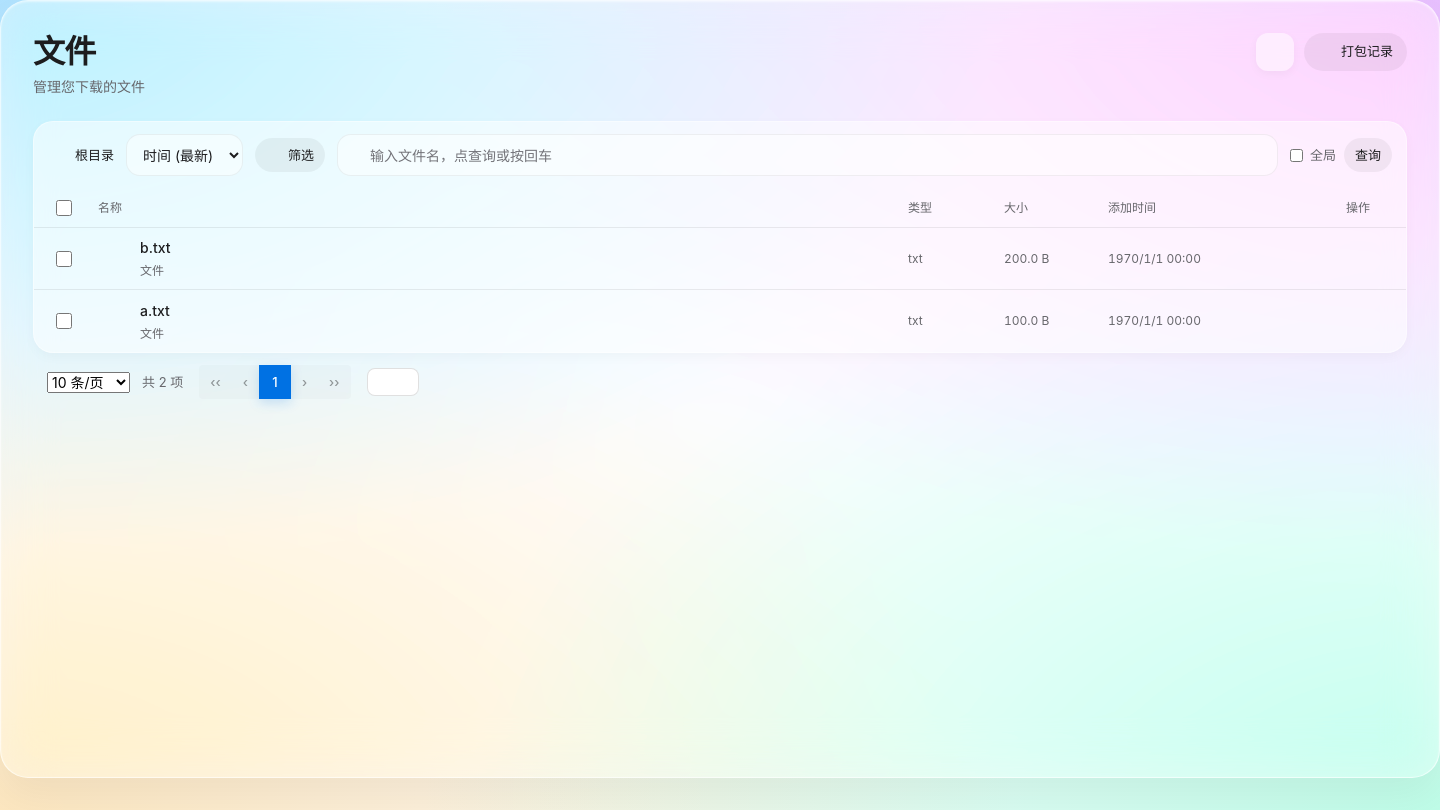
FilesPage（V1 文件页） › 选中后出现批量操作；批量删除确认后刷新
Expected: the text "a.txt" is shown, [140,302,170,319]
Step 1. Click the checkbox named "选择文件" next to "b.txt" → coordinates (64, 259), box [56,251,72,267]
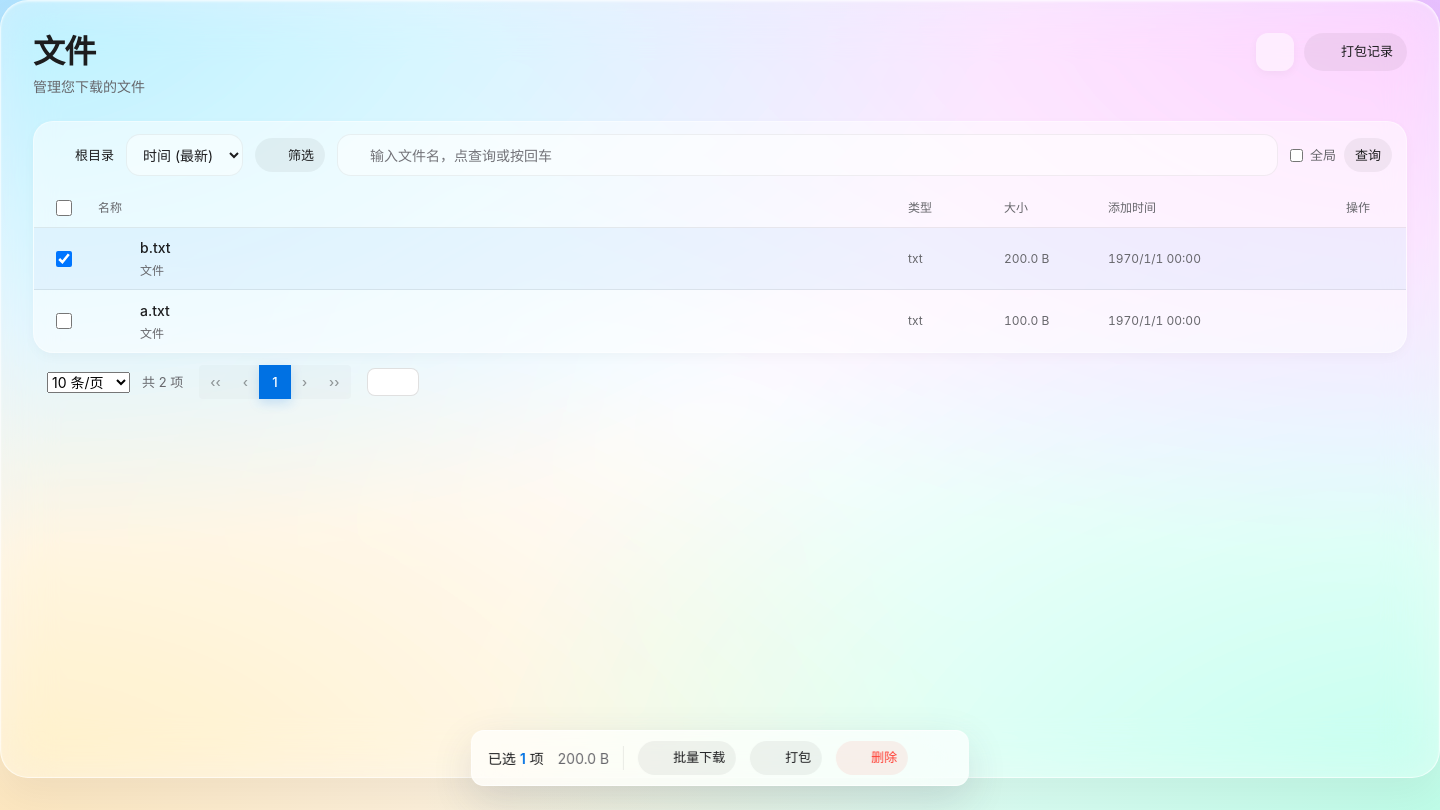
Expected: the element with class "filter-toolbar" does not show "已选", [34,122,1406,188]
Now the element with class "bulk-bar" shows "已选 1 项", box [471,730,969,786]
Step 2. Click the button "删除" → coordinates (872, 758), box [836,741,908,775]
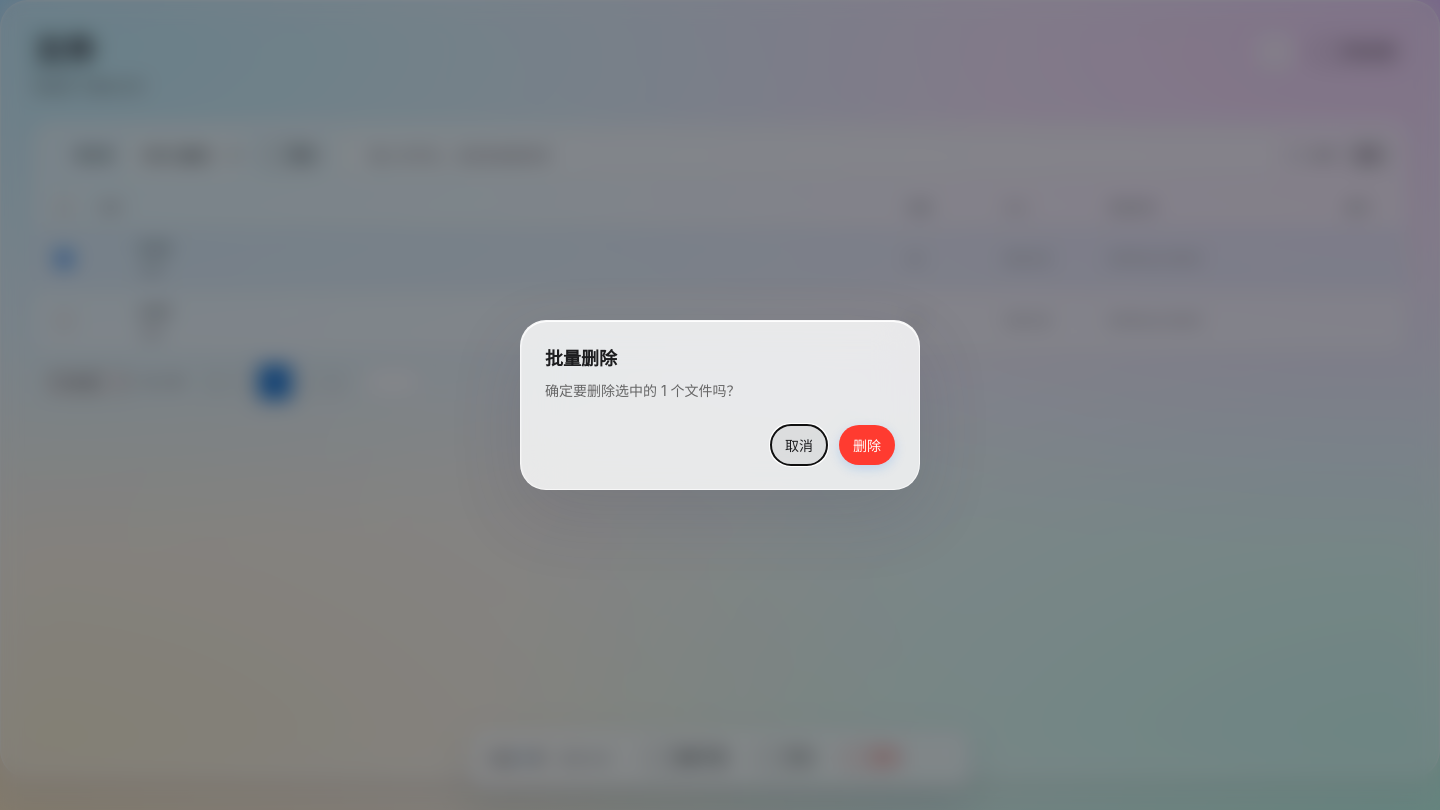
Step 3. Click the button "删除" → coordinates (867, 445), box [839,425,895,465]
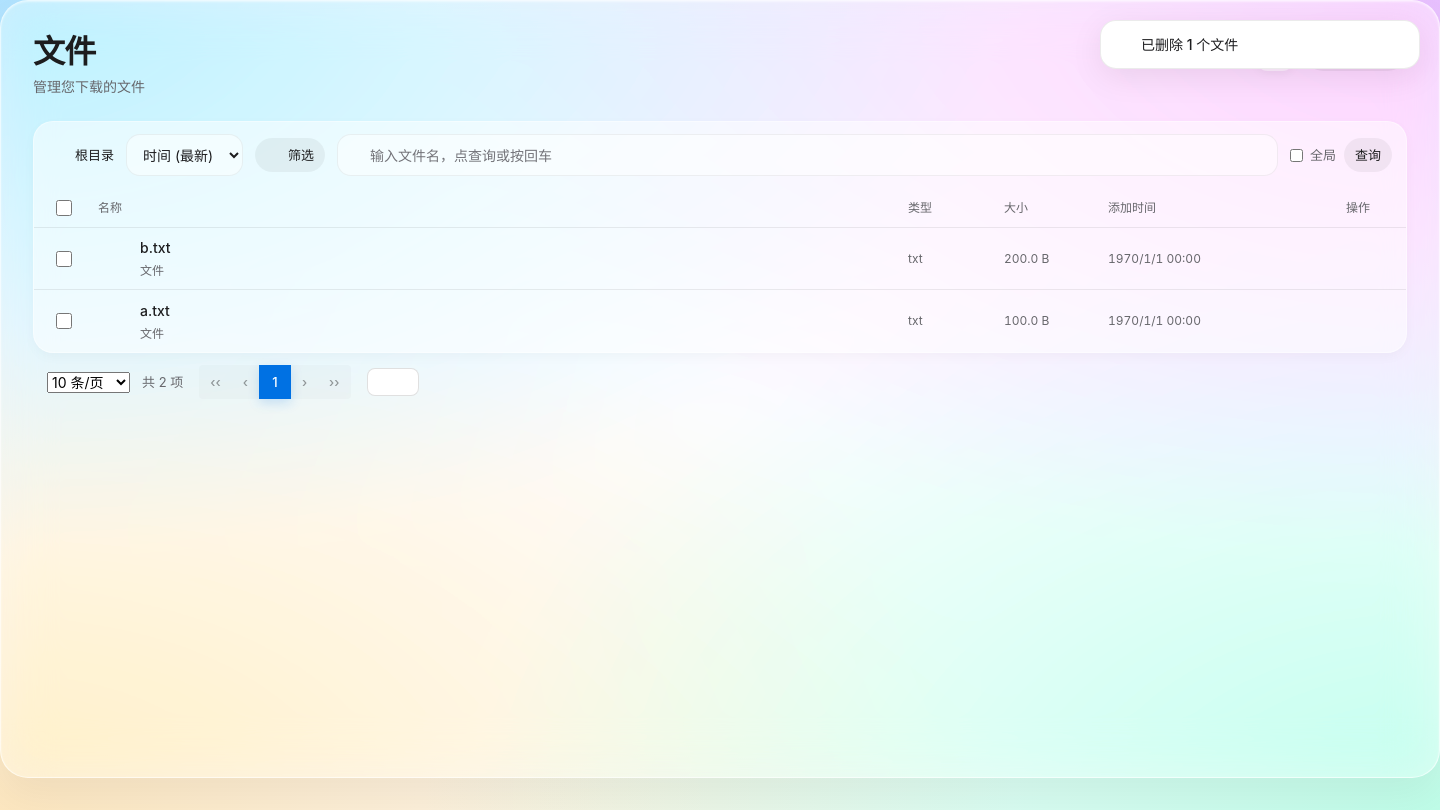
Now the text "已删除 1 个文件" is shown, box [1141,36,1238,53]
